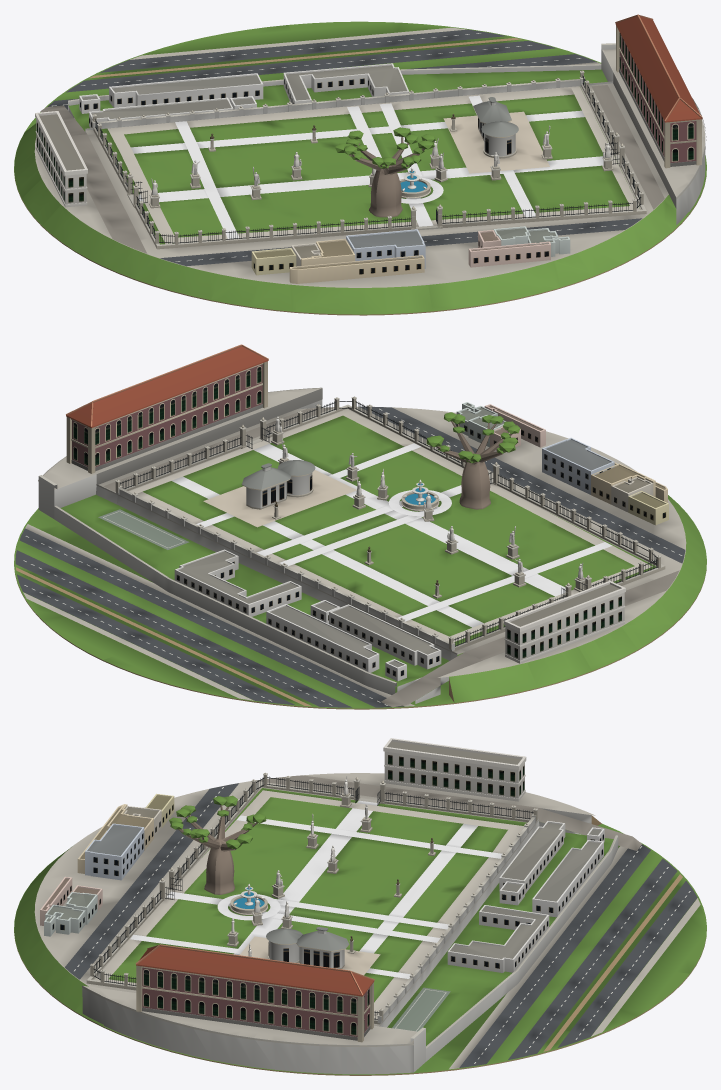
File: passeioPublico-praca.glb
3 renders of one model, top to bottom at view 1: azimuth 30°, elevation 25°; view 2: azimuth 150°, elevation 25°; view 3: azimuth 270°, elevation 25°, orthographic.
Visible parts, largest first — view 1: Chao_Praca, Chao_Colina, Ruas_Entorno, Chao_Base, Casario_Vizinho, Predios_Exercito, Gradil_Passeio, Muro_Caio_Prado, Chao_Segundo_Plano, Quartel_Forte_Telhado, Quartel_Forte, Chao_Plato_Forte (+7 smaller); view 2: Chao_Praca, Ruas_Entorno, Chao_Colina, Chao_Base, Muro_Caio_Prado, Predios_Exercito, Quartel_Forte, Casario_Vizinho, Gradil_Passeio, Chao_Plato_Forte, Santa_Casa, Chao_Segundo_Plano (+8 smaller); view 3: Chao_Praca, Ruas_Entorno, Chao_Colina, Chao_Plato_Forte, Chao_Base, Quartel_Forte, Predios_Exercito, Casario_Vizinho, Muro_Caio_Prado, Santa_Casa, Chao_Segundo_Plano, Gradil_Passeio (+8 smaller).
Part boxes in pixels (<box>): Chao_Praca: <box>101,86,640,244</box>; Chao_Colina: <box>14,83,689,314</box>; Ruas_Entorno: <box>48,27,664,266</box>; Chao_Base: <box>14,21,706,315</box>; Casario_Vizinho: <box>251,226,570,283</box>; Predios_Exercito: <box>79,63,408,128</box>; Gradil_Passeio: <box>92,70,646,249</box>; Muro_Caio_Prado: <box>68,64,612,133</box>; Chao_Segundo_Plano: <box>68,69,607,131</box>; Quartel_Forte_Telhado: <box>615,14,702,122</box>; Quartel_Forte: <box>616,25,701,168</box>; Chao_Plato_Forte: <box>601,43,706,224</box>; Chao_Praca: <box>129,409,655,645</box>; Ruas_Entorno: <box>15,406,685,707</box>; Chao_Colina: <box>98,406,706,702</box>; Chao_Base: <box>14,495,706,709</box>; Muro_Caio_Prado: <box>54,484,457,694</box>; Predios_Exercito: <box>174,549,441,681</box>; Quartel_Forte: <box>66,361,267,473</box>; Casario_Vizinho: <box>454,402,668,525</box>; Gradil_Passeio: <box>115,396,665,651</box>; Chao_Plato_Forte: <box>38,387,322,518</box>; Santa_Casa: <box>504,581,625,663</box>; Chao_Segundo_Plano: <box>60,494,448,687</box>; Chao_Praca: <box>94,788,527,1018</box>; Ruas_Entorno: <box>65,783,700,1069</box>; Chao_Colina: <box>14,773,601,1026</box>; Chao_Plato_Forte: <box>82,985,425,1074</box>; Chao_Base: <box>14,823,706,1075</box>; Quartel_Forte: <box>136,965,373,1042</box>; Predios_Exercito: <box>447,821,604,972</box>; Casario_Vizinho: <box>40,793,174,936</box>; Muro_Caio_Prado: <box>377,813,618,1061</box>; Santa_Casa: <box>383,738,526,801</box>; Chao_Segundo_Plano: <box>387,832,613,1045</box>; Gradil_Passeio: <box>86,772,537,1024</box>.
Size of the model in its own units: 66.79 by 10.06 by 66.79.
28 materials, 1 textured.
